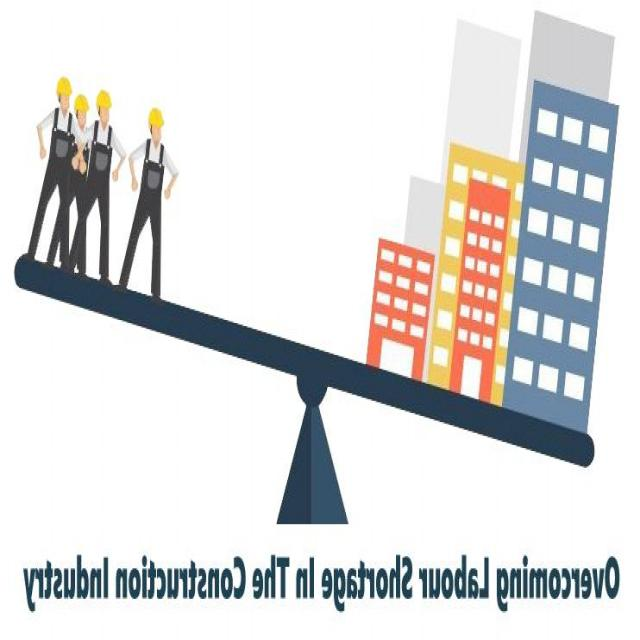Reflective-Jacket: (51, 108, 78, 166), (90, 122, 114, 177)
Safety-Helmet: (147, 102, 167, 131), (95, 87, 114, 111), (56, 73, 74, 98), (74, 91, 90, 116)
